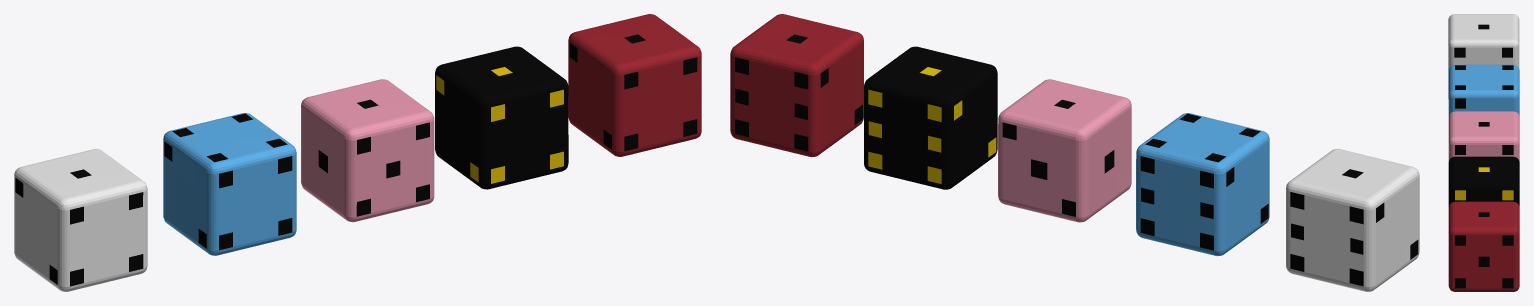
The model's file is Dice_ver2.fbx.
3 renders of one model, left to right at view 1: azimuth 30°, elevation 25°; view 2: azimuth 150°, elevation 25°; view 3: azimuth 270°, elevation 25°, orthographic. The views are drawn at different scales.
Parts seen in each view (by area): view 1: Fraud, Odd, normal, Blood, Even; view 2: Fraud, Even, Odd, normal, Blood; view 3: Blood, normal, Even, Odd, Fraud.
Boxes of the visible parts, box(x1,y1,x2,y2) form: Fraud: box(435, 46, 568, 189); Odd: box(301, 79, 434, 222); normal: box(14, 148, 147, 291); Blood: box(568, 14, 701, 156); Even: box(163, 113, 296, 255); Fraud: box(864, 46, 997, 189); Even: box(1136, 113, 1269, 256); Odd: box(998, 79, 1131, 222); normal: box(1286, 148, 1419, 291); Blood: box(730, 14, 863, 157); Blood: box(1448, 201, 1519, 291); normal: box(1448, 14, 1519, 98); Even: box(1448, 64, 1519, 116); Odd: box(1448, 111, 1519, 161); Fraud: box(1448, 156, 1519, 206).
Size of the model in its own units: 1448 by 201 by 201.
